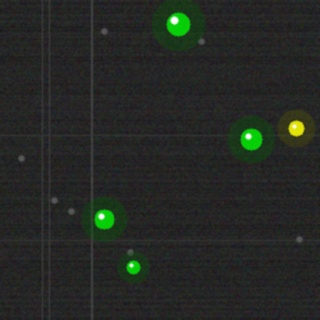green_normal: (164, 10, 192, 38), (238, 126, 264, 152), (92, 207, 116, 231), (124, 258, 142, 276)
yellow_warning: (286, 118, 306, 138)
